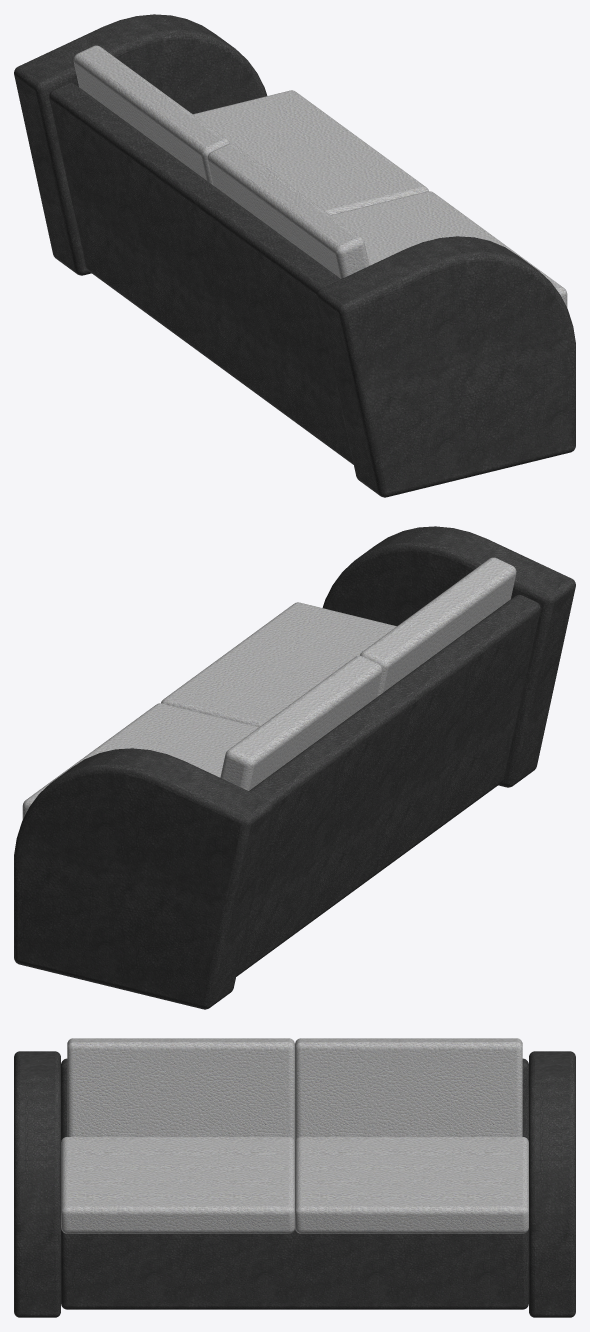
Rendered from couch.dae.
3 views of the same model, one above another, from view 1: azimuth 30°, elevation 25°; view 2: azimuth 150°, elevation 25°; view 3: azimuth 270°, elevation 25° (orthographic). The views are drawn at different scales.
Visible parts, largest first — view 1: group_0, group_2, group_1, group_4, group_5, group_6, group_3; view 2: group_1, group_2, group_0, group_3, group_6, group_5, group_4; view 3: group_2, group_3, group_4, group_5, group_6, group_0, group_1.
Part boxes in pixels (bbox=[...]): group_0: bbox=[317, 236, 575, 497]; group_2: bbox=[49, 82, 353, 464]; group_1: bbox=[14, 14, 267, 275]; group_4: bbox=[193, 90, 428, 214]; group_5: bbox=[207, 143, 369, 278]; group_6: bbox=[73, 45, 229, 184]; group_3: bbox=[331, 191, 567, 307]; group_1: bbox=[14, 748, 272, 1009]; group_2: bbox=[236, 594, 540, 976]; group_0: bbox=[322, 526, 575, 787]; group_3: bbox=[161, 602, 396, 726]; group_6: bbox=[220, 655, 382, 790]; group_5: bbox=[360, 557, 516, 696]; group_4: bbox=[22, 703, 258, 819]; group_2: bbox=[61, 1058, 528, 1309]; group_3: bbox=[61, 1137, 294, 1233]; group_4: bbox=[295, 1137, 528, 1233]; group_5: bbox=[67, 1038, 294, 1141]; group_6: bbox=[295, 1038, 522, 1141]; group_0: bbox=[14, 1051, 60, 1317]; group_1: bbox=[529, 1051, 575, 1317].
Bounding box in the file's own units: 39.88 × 89.51 × 35.2.
2 materials, 2 textured.
